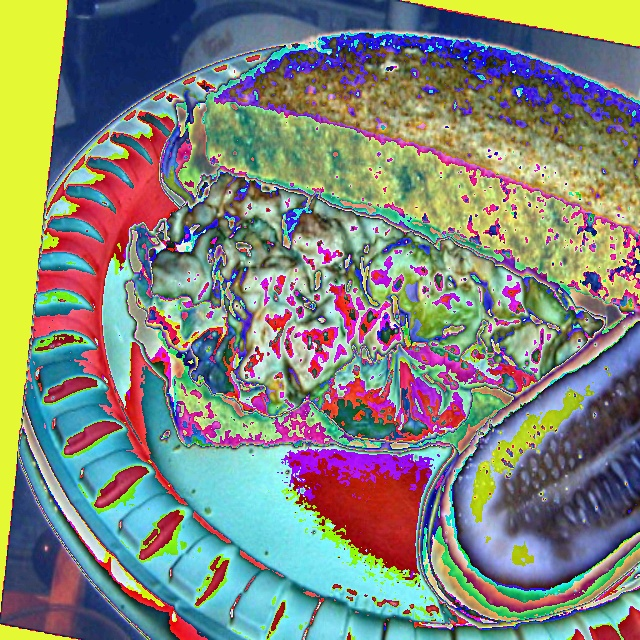background: (130, 27, 639, 624)
